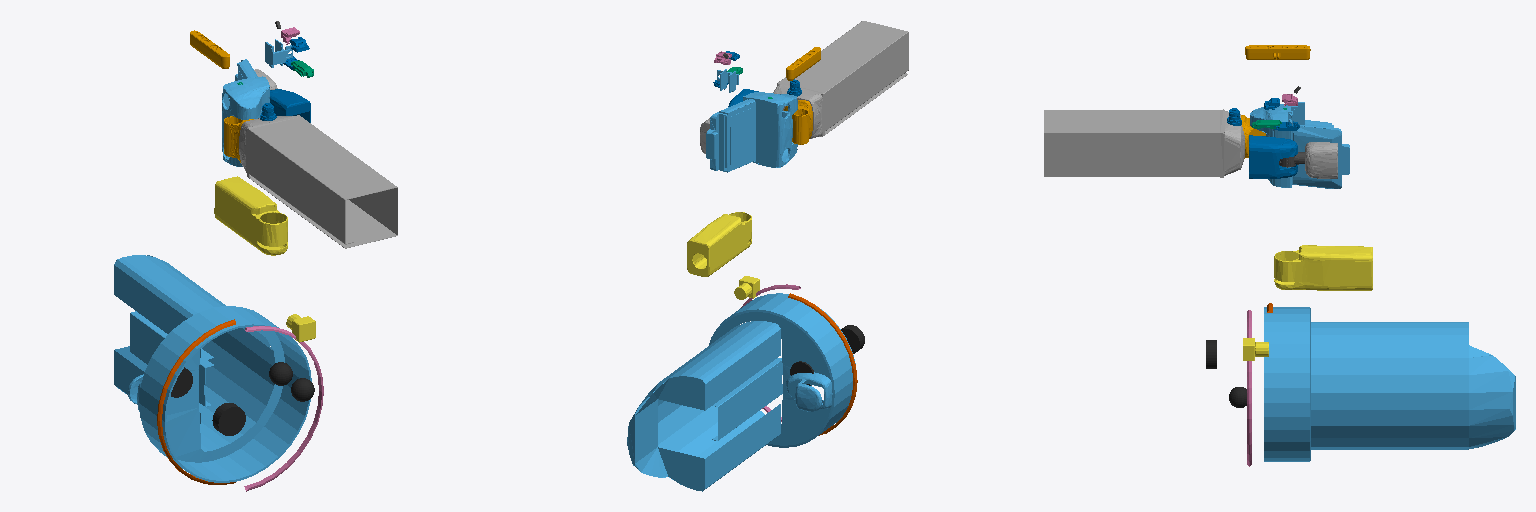
--- What the picture shows (computed from the rendered views, not written in the file) ---
Views: 3 orthographic renders of the robot side by side, from view 1: azimuth 30°, elevation 25°; view 2: azimuth 150°, elevation 25°; view 3: azimuth 270°, elevation 25°.
Model hsrb with 48 links and 47 joints (18 revolute, 9 continuous, 2 prismatic, 18 fixed), rooted at base_footprint, posed all joints at 0.
Visible links, largest first — view 1: base_link, torso_lift_link, arm_flex_link, head_tilt_link, base_b_bumper_link, base_f_bumper_link, arm_roll_link, base_r_drive_wheel_link, head_rgbd_sensor_link, head_pan_link, base_range_sensor_link; view 2: base_link, torso_lift_link, head_tilt_link, arm_flex_link, head_pan_link, base_f_bumper_link, head_rgbd_sensor_link; view 3: base_link, torso_lift_link, arm_flex_link, head_tilt_link, arm_roll_link, wrist_roll_link, head_rgbd_sensor_link, base_b_bumper_link.
Link boxes in pixels (box(x1,y1,x2,y2)): base_link: box(114, 255, 311, 482); torso_lift_link: box(239, 115, 397, 248); arm_flex_link: box(214, 176, 287, 255); head_tilt_link: box(222, 59, 269, 166); base_b_bumper_link: box(244, 326, 323, 491); base_f_bumper_link: box(157, 319, 235, 484); arm_roll_link: box(270, 89, 310, 122); base_r_drive_wheel_link: box(212, 403, 245, 435); head_rgbd_sensor_link: box(190, 30, 229, 68); head_pan_link: box(224, 116, 253, 162); base_range_sensor_link: box(286, 314, 315, 342); base_link: box(627, 293, 855, 491); torso_lift_link: box(773, 21, 908, 138); head_tilt_link: box(706, 92, 797, 172); arm_flex_link: box(687, 212, 751, 276); head_pan_link: box(784, 100, 812, 144); base_f_bumper_link: box(788, 293, 857, 435); head_rgbd_sensor_link: box(786, 47, 820, 80); base_link: box(1264, 307, 1515, 461); torso_lift_link: box(1044, 109, 1244, 177); arm_flex_link: box(1274, 245, 1372, 290); head_tilt_link: box(1250, 104, 1349, 188); arm_roll_link: box(1249, 135, 1297, 178); wrist_roll_link: box(1305, 142, 1337, 178); head_rgbd_sensor_link: box(1245, 45, 1310, 59); base_b_bumper_link: box(1247, 310, 1251, 466).
Size in the robot's own frame: 0.452 by 1.3 by 1.23 metres.
Meshes: 18 distinct files referenced, 19 mesh visuals loaded (17 OBJ); not drawn: 1 (reference not matched to a file when rendering).

URDF robot description (hsrb):
<?xml version="1.0" ?>
<!-- =================================================================================== -->
<!-- |    This document was autogenerated by xacro from [local-path]/tmp_ws/src/hsrb_description/robots/hsrb4s.urdf.xacro | -->
<!-- |    EDITING THIS FILE BY HAND IS NOT RECOMMENDED                                 | -->
<!-- =================================================================================== -->
<!--
Copyright (c) 2014, Toyota Motor Corporation
All rights reserved.

Redistribution and use in source and binary forms, with or without
modification, are permitted provided that the following conditions are met:

 * Redistributions of source code must retain the above copyright notice,
   this list of conditions and the following disclaimer.
 * Redistributions in binary form must reproduce the above copyright
   notice, this list of conditions and the following disclaimer in the
   documentation and/or other materials provided with the distribution.
 * Neither the name of Toyota Motor Corporation nor the names of its
   contributors may be used to endorse or promote products derived from
   this software without specific prior written permission.

THIS SOFTWARE IS PROVIDED BY THE COPYRIGHT HOLDERS AND CONTRIBUTORS "AS IS"
AND ANY EXPRESS OR IMPLIED WARRANTIES, INCLUDING, BUT NOT LIMITED TO, THE
IMPLIED WARRANTIES OF MERCHANTABILITY AND FITNESS FOR A PARTICULAR PURPOSE
ARE DISCLAIMED. IN NO EVENT SHALL THE COPYRIGHT OWNER OR CONTRIBUTORS BE
LIABLE FOR ANY DIRECT, INDIRECT, INCIDENTAL, SPECIAL, EXEMPLARY, OR
CONSEQUENTIAL DAMAGES (INCLUDING, BUT NOT LIMITED TO, PROCUREMENT OF
SUBSTITUTE GOODS OR SERVICES; LOSS OF USE, DATA, OR PROFITS; OR BUSINESS
INTERRUPTION) HOWEVER CAUSED AND ON ANY THEORY OF LIABILITY, WHETHER IN
CONTRACT, STRICT LIABILITY, OR TORT (INCLUDING NEGLIGENCE OR OTHERWISE)
ARISING IN ANY WAY OUT OF THE USE OF THIS SOFTWARE, EVEN IF ADVISED OF THE
POSSIBILITY OF SUCH DAMAGE.
-->
<robot name="hsrb" xmlns:controller="http://playerstage.sourceforge.net/gazebo/xmlschema/#controller" xmlns:interface="http://playerstage.sourceforge.net/gazebo/xmlschema/#interface" xmlns:sensor="http://playerstage.sourceforge.net/gazebo/xmlschema/#sensor" xmlns:xacro="http://ros.org/wiki/xacro">
  <material name="body_main">
    <color rgba="1.0 0.0 0.0 1.0"/>
  </material>
  <material name="body_sub">
    <color rgba="0.33 0.33 0.33 1.0"/>
  </material>
  <material name="wheel">
    <color rgba="0.2 0.2 0.2 1.0"/>
  </material>
  <material name="black">
    <color rgba="0.1 0.1 0.1 1.0"/>
  </material>
  <material name="tablet">
    <color rgba="0.1 0.1 0.2 1.0"/>
  </material>
  <link name="base_footprint">
        </link>
  <joint name="base_footprint_joint" type="fixed">
    <parent link="base_footprint"/>
    <child link="base_link"/>
  </joint>
  <link name="base_link">
    <inertial>
      <mass value="50.00"/>
      <!-- use dummy weight to stabilize gazebo move base (real value: 11.017971)-->
      <origin xyz="-0.025978 -0.005498 0.17633"/>
      <inertia ixx="0.3742" ixy="0.000434172172" ixz="0.03088" iyy="0.3436" iyz="0.01775" izz="0.1509"/>
    </inertial>
    <visual>
      <geometry>
        <mesh filename="hsrb_meshes/meshes/base_v2/combinedBase.obj"/>
      </geometry>
    </visual>
    <collision>
      <geometry>
        <mesh filename="hsrb_meshes/meshes/base_v2/base_collision.obj"/>
      </geometry>
    </collision>
  </link>
  <joint name="base_roll_joint" type="continuous">
    <origin rpy="0.0 0.0 0.0" xyz="0.0 0.0 0.0"/>
    <axis xyz="0.0 0.0 1.0"/>
    <limit effort="34.46" velocity="2.5"/>
    <parent link="base_link"/>
    <child link="base_roll_link"/>
    <dynamics damping="0.7"/>
  </joint>
  <link name="base_roll_link">
    <inertial>
      <origin xyz="-0.01948200 0.00219100 0.07101300"/>
      <mass value="10.239419"/>
      <inertia ixx="0.07671000" ixy="-0.01005000" ixz="0.00174900" iyy="0.09057000" iyz="0.00154900" izz="0.14500000"/>
    </inertial>
  </link>
  <joint name="base_r_drive_wheel_joint" type="continuous">
    <origin rpy="0.0 0.0 0.0" xyz="-0.11 -0.133 0.04"/>
    <axis xyz="0.0 1.0 0.0"/>
    <limit effort="11.067" velocity="20.8"/>
    <parent link="base_roll_link"/>
    <child link="base_r_drive_wheel_link"/>
    <dynamics damping="1.0"/>
  </joint>
  <link name="base_r_drive_wheel_link">
    <visual>
      <origin rpy="1.57079632679 0.0 0.0" xyz="0.0 0.0 0.0"/>
      <geometry>
        <cylinder length="0.03" radius="0.04"/>
      </geometry>
      <material name="wheel"/>
    </visual>
    <collision>
      <origin rpy="1.57079632679 0.0 0.0" xyz="0.0 0.0 0.0"/>
      <geometry>
        <cylinder length="0.03" radius="0.04"/>
      </geometry>
    </collision>
    <inertial>
      <mass value="0.2"/>
      <origin xyz="0 0 0"/>
      <inertia ixx="0.015" ixy="0" ixz="0" iyy="0.015" iyz="0" izz="0.015"/>
    </inertial>
  </link>
  <joint name="base_l_drive_wheel_joint" type="continuous">
    <origin rpy="0.0 0.0 0.0" xyz="-0.11 0.133 0.04"/>
    <axis xyz="0.0 1.0 0.0"/>
    <limit effort="11.067" velocity="20.8"/>
    <parent link="base_roll_link"/>
    <child link="base_l_drive_wheel_link"/>
    <dynamics damping="1.0"/>
  </joint>
  <link name="base_l_drive_wheel_link">
    <visual>
      <origin rpy="1.57079632679 0.0 0.0" xyz="0.0 0.0 0.0"/>
      <geometry>
        <cylinder length="0.03" radius="0.04"/>
      </geometry>
      <material name="wheel"/>
    </visual>
    <collision>
      <origin rpy="1.57079632679 0.0 0.0" xyz="0.0 0.0 0.0"/>
      <geometry>
        <cylinder length="0.03" radius="0.04"/>
      </geometry>
    </collision>
    <inertial>
      <mass value="0.2"/>
      <origin xyz="0 0 0"/>
      <inertia ixx="0.015" ixy="0" ixz="0" iyy="0.015" iyz="0" izz="0.015"/>
    </inertial>
  </link>
  <joint name="base_r_passive_wheel_x_frame_joint" type="continuous">
    <origin rpy="0.0 0.0 0.0" xyz="0.1495                 -0.055                 0.03"/>
    <axis xyz="1.0 0.0 0.0"/>
    <limit effort="1.0" velocity="3.0"/>
    <parent link="base_roll_link"/>
    <child link="base_r_passive_wheel_x_frame"/>
    <dynamics damping="1.0"/>
  </joint>
  <link name="base_r_passive_wheel_x_frame">
    <inertial>
      <mass value="0.2"/>
      <origin xyz="0 0 0"/>
      <inertia ixx="0.015" ixy="0" ixz="0" iyy="0.015" iyz="0" izz="0.015"/>
    </inertial>
  </link>
  <joint name="base_r_passive_wheel_y_frame_joint" type="continuous">
    <axis xyz="0.0 1.0 0.0"/>
    <limit effort="8.85" velocity="10.0"/>
    <parent link="base_r_passive_wheel_x_frame"/>
    <child link="base_r_passive_wheel_y_frame"/>
  </joint>
  <link name="base_r_passive_wheel_y_frame">
    <inertial>
      <mass value="0.2"/>
      <origin xyz="0 0 0"/>
      <inertia ixx="0.015" ixy="0" ixz="0" iyy="0.015" iyz="0" izz="0.015"/>
    </inertial>
  </link>
  <joint name="base_r_passive_wheel_z_joint" type="continuous">
    <axis xyz="0.0 0.0 1.0"/>
    <limit effort="8.85" velocity="10.0"/>
    <parent link="base_r_passive_wheel_y_frame"/>
    <child link="base_r_passive_wheel_z_link"/>
  </joint>
  <link name="base_r_passive_wheel_z_link">
    <visual>
      <geometry>
        <sphere radius="0.03"/>
      </geometry>
      <material name="wheel"/>
    </visual>
    <collision>
      <geometry>
        <sphere radius="0.03"/>
      </geometry>
    </collision>
    <inertial>
      <mass value="0.2"/>
      <origin xyz="0 0 0"/>
      <inertia ixx="0.015" ixy="0" ixz="0" iyy="0.015" iyz="0" izz="0.015"/>
    </inertial>
  </link>
  <joint name="base_l_passive_wheel_x_frame_joint" type="continuous">
    <origin rpy="0.0 0.0 0.0" xyz="0.1495                 0.055                 0.03"/>
    <axis xyz="1.0 0.0 0.0"/>
    <limit effort="1.0" velocity="3.0"/>
    <parent link="base_roll_link"/>
    <child link="base_l_passive_wheel_x_frame"/>
    <dynamics damping="1.0"/>
  </joint>
  <link name="base_l_passive_wheel_x_frame">
    <inertial>
      <mass value="0.2"/>
      <origin xyz="0 0 0"/>
      <inertia ixx="0.015" ixy="0" ixz="0" iyy="0.015" iyz="0" izz="0.015"/>
    </inertial>
  </link>
  <joint name="base_l_passive_wheel_y_frame_joint" type="continuous">
    <axis xyz="0.0 1.0 0.0"/>
    <limit effort="8.85" velocity="10.0"/>
    <parent link="base_l_passive_wheel_x_frame"/>
    <child link="base_l_passive_wheel_y_frame"/>
  </joint>
  <link name="base_l_passive_wheel_y_frame">
    <inertial>
      <mass value="0.2"/>
      <origin xyz="0 0 0"/>
      <inertia ixx="0.015" ixy="0" ixz="0" iyy="0.015" iyz="0" izz="0.015"/>
    </inertial>
  </link>
  <joint name="base_l_passive_wheel_z_joint" type="continuous">
    <axis xyz="0.0 0.0 1.0"/>
    <limit effort="8.85" velocity="10.0"/>
    <parent link="base_l_passive_wheel_y_frame"/>
    <child link="base_l_passive_wheel_z_link"/>
  </joint>
  <link name="base_l_passive_wheel_z_link">
    <visual>
      <geometry>
        <sphere radius="0.03"/>
      </geometry>
      <material name="wheel"/>
    </visual>
    <collision>
      <geometry>
        <sphere radius="0.03"/>
      </geometry>
    </collision>
    <inertial>
      <mass value="0.2"/>
      <origin xyz="0 0 0"/>
      <inertia ixx="0.015" ixy="0" ixz="0" iyy="0.015" iyz="0" izz="0.015"/>
    </inertial>
  </link>
  <joint name="base_range_sensor_joint" type="fixed">
    <origin rpy="0.0 0.0 0.0" xyz="0.1675 0.0 0.1844"/>
    <parent link="base_link"/>
    <child link="base_range_sensor_link"/>
  </joint>
  <link name="base_range_sensor_link">
    <visual>
      <geometry>
        <mesh filename="hsrb_meshes/meshes/sensors/laser.obj"/>
      </geometry>
    </visual>
    <collision>
      <geometry>
        <mesh filename="hsrb_meshes/meshes/sensors/laser_collision.obj"/>
      </geometry>
    </collision>
    <inertial>
      <origin xyz="0 0 0"/>
      <mass value="0.01"/>
      <inertia ixx="0.001" ixy="0" ixz="0" iyy="0.001" iyz="0" izz="0.001"/>
    </inertial>
  </link>
  <joint name="base_imu_frame_joint" type="fixed">
    <origin rpy="0.0 0.0 0.0" xyz="0.0005 0.1296 0.181"/>
    <parent link="base_link"/>
    <child link="base_imu_frame"/>
  </joint>
  <link name="base_imu_frame">
    <inertial>
      <origin xyz="0 0 0"/>
      <mass value="0.01"/>
      <inertia ixx="0.001" ixy="0" ixz="0" iyy="0.001" iyz="0" izz="0.001"/>
    </inertial>
  </link>
  <joint name="base_f_bumper_joint" type="revolute">
    <origin rpy="0.0 0.0 0.0" xyz="0.0 0.0 0.0"/>
    <parent link="base_link"/>
    <child link="base_f_bumper_link"/>
    <limit effort="0" lower="0" upper="0" velocity="0"/>
  </joint>
  <link name="base_f_bumper_link">
    <inertial>
      <origin xyz="0.0 0.0 0.0"/>
      <mass value="0.06"/>
      <inertia ixx="0.001437" ixy="0.0" ixz="0.0" iyy="0.001437" iyz="0.0" izz="0.002875"/>
    </inertial>
    <visual>
      <geometry>
        <mesh filename="hsrb_meshes/meshes/base_v2/bumper.obj"/>
      </geometry>
    </visual>
    <collision>
      <geometry>
        <mesh filename="hsrb_meshes/meshes/base_v2/bumper_collision.obj"/>
      </geometry>
    </collision>
  </link>
  <joint name="base_b_bumper_joint" type="revolute">
    <origin rpy="0.0 0.0 3.14159265359" xyz="0.0 0.0013 0.0"/>
    <parent link="base_link"/>
    <child link="base_b_bumper_link"/>
    <limit effort="0" lower="0" upper="0" velocity="0"/>
  </joint>
  <link name="base_b_bumper_link">
    <inertial>
      <origin xyz="0.0 0.0 0.0"/>
      <mass value="0.06"/>
      <inertia ixx="0.001437" ixy="0.0" ixz="0.0" iyy="0.001437" iyz="0.0" izz="0.002875"/>
    </inertial>
    <visual>
      <geometry>
        <mesh filename="hsrb_meshes/meshes/base_v2/bumper.obj"/>
      </geometry>
    </visual>
    <collision>
      <geometry>
        <mesh filename="hsrb_meshes/meshes/base_v2/bumper_collision.obj"/>
      </geometry>
    </collision>
  </link>
  <joint name="torso_lift_joint" type="prismatic">
    <origin rpy="0.0 0.0 0.0" xyz="0.0 0.0 0.752"/>
    <!-- <origin xyz="0.0 0.0 0.752" rpy="0.0 0.0 0.0" /> -->
    <axis xyz="0.0 0.0 1.0"/>
    <limit effort="300.0" lower="0.0" upper="0.345" velocity="0.1"/>
    <parent link="base_link"/>
    <child link="torso_lift_link"/>
    <mimic joint="arm_lift_joint" multiplier="0.5"/>
    <dynamics damping="500.0"/>
  </joint>
  <link name="torso_lift_link">
    <inertial>
      <mass value="3.420779"/>
      <origin xyz="-0.051142 0.003454 -0.2905"/>
      <inertia ixx="0.1045" ixy="-0.000460884801" ixz="0.000101130383" iyy="0.105" iyz="0.002941" izz="0.01284"/>
    </inertial>
    <visual>
      <geometry>
        <mesh filename="hsrb_meshes/meshes/torso_v0/torso_light.obj"/>
      </geometry>
    </visual>
    <collision>
      <geometry>
        <mesh filename="hsrb_meshes/meshes/torso_v0/torso_collision.obj"/>
      </geometry>
    </collision>
  </link>
  <joint name="head_pan_joint" type="revolute">
    <origin rpy="0.0 0.0 0.0" xyz="0.0 0.0 0.0"/>
    <axis xyz="0.0 0.0 1.0"/>
    <limit effort="100.0" lower="-3.84" upper="1.75" velocity="1.0"/>
    <parent link="torso_lift_link"/>
    <child link="head_pan_link"/>
    <dynamics damping="1.0"/>
  </joint>
  <link name="head_pan_link">
    <inertial>
      <mass value="0.571903"/>
      <origin xyz="0.001724 -0.001969 -0.028886"/>
      <inertia ixx="0.0009711421" ixy="0.00006179487" ixz="-0.000113923121" iyy="0.00065335493" iyz="0.000069036305" izz="0.000765202576"/>
    </inertial>
    <visual>
      <geometry>
        <mesh filename="hsrb_meshes/meshes/head_v1/head_pan.obj"/>
      </geometry>
    </visual>
    <collision>
      <geometry>
        <mesh filename="hsrb_meshes/meshes/head_v1/head_pan_collision.obj"/>
      </geometry>
    </collision>
  </link>
  <joint name="head_tilt_joint" type="revolute">
    <origin rpy="0.0 0.0 0.0" xyz="0.02 0.0 0.0"/>
    <axis xyz="0.0 -1.0 0.0"/>
    <limit effort="100.0" lower="-1.57" upper="0.52" velocity="1.0"/>
    <parent link="head_pan_link"/>
    <child link="head_tilt_link"/>
    <dynamics damping="10.0"/>
  </joint>
  <link name="head_tilt_link">
    <inertial>
      <mass value="2.123802"/>
      <origin xyz="-0.055376 -0.002436 0.117733"/>
      <inertia ixx="0.01941" ixy="-0.000138091054" ixz="0.005035" iyy="0.01498" iyz="0.000087492537" izz="0.01167"/>
    </inertial>
    <visual>
      <geometry>
        <mesh filename="hsrb_meshes/meshes/head_v1/combinedHead.obj"/>
      </geometry>
    </visual>
    <collision>
      <geometry>
        <mesh filename="hsrb_meshes/meshes/head_v1/combinedCollision.obj"/>
      </geometry>
    </collision>
  </link>
  <joint name="head_l_stereo_camera_joint" type="fixed">
    <origin rpy="-1.57079632679 0.0 -1.57079632679" xyz="0.02 0.07 0.061"/>
    <parent link="head_tilt_link"/>
    <child link="head_l_stereo_camera_link"/>
  </joint>
  <link name="head_l_stereo_camera_link">
    <visual>
      <origin rpy="0.0 0.0 0.0" xyz="0 0 0"/>
      <geometry>
        <mesh filename="hsrb_meshes/meshes/sensors/head_camera.obj"/>
      </geometry>
    </visual>
    <inertial>
      <origin xyz="0 0 0"/>
      <mass value="0.01"/>
      <inertia ixx="0.001" ixy="0" ixz="0" iyy="0.001" iyz="0" izz="0.001"/>
    </inertial>
  </link>
  <joint name="head_l_stereo_camera_gazebo_frame_joint" type="fixed">
    <origin rpy="1.57079632679 -1.57079632679 0.0" xyz="0 0 0"/>
    <parent link="head_l_stereo_camera_link"/>
    <child link="head_l_stereo_camera_gazebo_frame"/>
  </joint>
  <link name="head_l_stereo_camera_gazebo_frame">
    <inertial>
      <origin xyz="0 0 0"/>
      <mass value="0.01"/>
      <inertia ixx="0.001" ixy="0" ixz="0" iyy="0.001" iyz="0" izz="0.001"/>
    </inertial>
  </link>
  <joint name="head_r_stereo_camera_joint" type="fixed">
    <origin rpy="-1.57079632679 0.0 -1.57079632679" xyz="0.02 -0.07 0.061"/>
    <parent link="head_tilt_link"/>
    <child link="head_r_stereo_camera_link"/>
  </joint>
  <link name="head_r_stereo_camera_link">
    <visual>
      <origin rpy="0.0 0.0 0.0" xyz="0 0 0"/>
      <geometry>
        <mesh filename="hsrb_meshes/meshes/sensors/head_camera.obj"/>
      </geometry>
    </visual>
    <inertial>
      <origin xyz="0 0 0"/>
      <mass value="0.01"/>
      <inertia ixx="0.001" ixy="0" ixz="0" iyy="0.001" iyz="0" izz="0.001"/>
    </inertial>
  </link>
  <joint name="head_r_stereo_camera_gazebo_frame_joint" type="fixed">
    <origin rpy="1.57079632679 -1.57079632679 0.0" xyz="0 0 0"/>
    <parent link="head_r_stereo_camera_link"/>
    <child link="head_r_stereo_camera_gazebo_frame"/>
  </joint>
  <link name="head_r_stereo_camera_gazebo_frame">
    <inertial>
      <origin xyz="0 0 0"/>
      <mass value="0.01"/>
      <inertia ixx="0.001" ixy="0" ixz="0" iyy="0.001" iyz="0" izz="0.001"/>
    </inertial>
  </link>
  <joint name="head_center_camera_frame_joint" type="fixed">
    <origin rpy="-1.57079632679 0.0 -1.57079632679" xyz="0.0195 0.0 0.061"/>
    <parent link="head_tilt_link"/>
    <child link="head_center_camera_frame"/>
  </joint>
  <link name="head_center_camera_frame">
    <inertial>
      <origin xyz="0 0 0"/>
      <mass value="0.01"/>
      <inertia ixx="0.001" ixy="0" ixz="0" iyy="0.001" iyz="0" izz="0.001"/>
    </inertial>
  </link>
  <joint name="head_center_camera_gazebo_frame_joint" type="fixed">
    <origin rpy="1.57079632679 -1.57079632679 0.0" xyz="0 0 0"/>
    <parent link="head_center_camera_frame"/>
    <child link="head_center_camera_gazebo_frame"/>
  </joint>
  <link name="head_center_camera_gazebo_frame">
    <inertial>
      <origin xyz="0 0 0"/>
      <mass value="0.01"/>
      <inertia ixx="0.001" ixy="0" ixz="0" iyy="0.001" iyz="0" izz="0.001"/>
    </inertial>
  </link>
  <joint name="head_rgbd_sensor_joint" type="fixed">
    <origin rpy="-1.57079632679 0.0 -1.57079632679" xyz="-0.079796 0.022 0.215172"/>
    <parent link="head_tilt_link"/>
    <child link="head_rgbd_sensor_link"/>
  </joint>
  <link name="head_rgbd_sensor_link">
    <visual>
      <origin rpy="0.0 0.0 0.0" xyz="0 0 0"/>
      <geometry>
        <mesh filename="hsrb_meshes/meshes/sensors/xtion_pro_live.obj"/>
      </geometry>
    </visual>
    <collision>
      <origin rpy="0.0 0.0 0.0" xyz="0 0 0"/>
      <geometry>
        <mesh filename="hsrb_meshes/meshes/sensors/xtion_collision.obj"/>
      </geometry>
    </collision>
    <inertial>
      <origin xyz="0 0 0"/>
      <mass value="0.01"/>
      <inertia ixx="0.001" ixy="0" ixz="0" iyy="0.001" iyz="0" izz="0.001"/>
    </inertial>
  </link>
  <joint name="head_rgbd_sensor_gazebo_frame_joint" type="fixed">
    <origin rpy="1.57079632679 -1.57079632679 0.0" xyz="0 0 0"/>
    <parent link="head_rgbd_sensor_link"/>
    <child link="head_rgbd_sensor_gazebo_frame"/>
  </joint>
  <link name="head_rgbd_sensor_gazebo_frame">
    <inertial>
      <origin xyz="0 0 0"/>
      <mass value="0.01"/>
      <inertia ixx="0.001" ixy="0" ixz="0" iyy="0.001" iyz="0" izz="0.001"/>
    </inertial>
  </link>
  <joint name="arm_lift_joint" type="prismatic">
    <origin rpy="0.0 0.0 0.0" xyz="0.0 0.0 -0.340"/>
    <axis xyz="0.0 0.0 1.0"/>
    <limit effort="300.0" lower="0.0" upper="0.24" velocity="0.2"/>
    <parent link="torso_lift_link"/>
    <child link="arm_lift_link"/>
    <dynamics damping="1.0"/>
  </joint>
  <link name="arm_lift_link">
    <inertial>
      <mass value="1.275819"/>
      <origin xyz="0.051549 0.042438 -0.064145"/>
      <inertia ixx="0.004633" ixy="0.000475272668" ixz="-0.002403" iyy="0.008065" iyz="-0.000100268629" izz="0.007672"/>
    </inertial>
    <visual>
      <geometry>
        <mesh filename="hsrb_meshes/meshes/arm_v0/shoulder.obj" scale="1.0 1.0 -1.0"/>
      </geometry>
    </visual>
    <collision>
      <geometry>
        <mesh filename="hsrb_meshes/meshes/arm_v0/shoulder_collision.obj" scale="1.0 1.0 -1.0"/>
      </geometry>
    </collision>
  </link>
  <joint name="arm_flex_joint" type="revolute">
    <origin rpy="0.0 0.0 0.0" xyz="0.141 0.078 0.0"/>
    <axis xyz="0.0 -1.0 0.0"/>
    <limit effort="100.0" lower="-2.62" upper="0.0" velocity="1.2"/>
    <parent link="arm_lift_link"/>
    <child link="arm_flex_link"/>
    <dynamics damping="1.0"/>
  </joint>
  <link name="arm_flex_link">
    <inertial>
      <mass value="1.339295"/>
      <origin xyz="0.000632 0.006404 0.118529"/>
      <inertia ixx="7.528" ixy="-0.000020284207" ixz="-0.000022947194" iyy="0.007102" iyz="-0.000091796075" izz="0.001552"/>
    </inertial>
    <visual>
      <geometry>
        <mesh filename="hsrb_meshes/meshes/arm_v0/arm_flex_light.obj" scale="1.0 1.0 -1.0"/>
      </geometry>
    </visual>
    <collision>
      <geometry>
        <mesh filename="hsrb_meshes/meshes/arm_v0/arm_flex_collision.obj" scale="1.0 1.0 -1.0"/>
      </geometry>
    </collision>
  </link>
  <joint name="arm_roll_joint" type="revolute">
    <origin rpy="0.0 0.0 0.0" xyz="0.005 0.0 0.345"/>
    <axis xyz="0.0 0.0 1.0"/>
    <limit effort="100.0" lower="-2.09" upper="3.84" velocity="2.0"/>
    <parent link="arm_flex_link"/>
    <child link="arm_roll_link"/>
    <dynamics damping="0.1"/>
  </joint>
  <link name="arm_roll_link">
    <inertial>
      <mass value="0.247936"/>
      <origin xyz="-0.006927 0.002039 -0.064837"/>
      <inertia ixx="0.004267" ixy="-0.000018322199" ixz="0.000017984455" iyy="0.000780923828" iyz="-0.00001392334" izz="0.00412"/>
    </inertial>
    <visual>
      <geometry>
        <mesh filename="hsrb_meshes/meshes/arm_v0/arm_roll_light.obj" scale="1.0 1.0 -1.0"/>
      </geometry>
    </visual>
    <collision>
      <geometry>
        <mesh filename="hsrb_meshes/meshes/arm_v0/arm_roll_collision.obj" scale="1.0 1.0 -1.0"/>
      </geometry>
    </collision>
  </link>
  <joint name="wrist_flex_joint" type="revolute">
    <origin rpy="0.0 0.0 0.0" xyz="0.0 0.0 0.0"/>
    <axis xyz="0.0 -1.0 0.0"/>
    <limit effort="100.0" lower="-1.92" upper="1.22" velocity="1.5"/>
    <parent link="arm_roll_link"/>
    <child link="wrist_flex_link"/>
    <dynamics damping="1.0"/>
  </joint>
  <link name="wrist_flex_link">
    <inertial>
      <mass value="0.681225"/>
      <origin xyz="0.000131 -0.003929 0.00217"/>
      <inertia ixx="0.000074353558" ixy="0.000000494515" ixz="0.000000022937" iyy="0.000038432887" iyz="-0.00000255576" izz="0.000064680918"/>
    </inertial>
    <visual>
      <geometry>
        <mesh filename="hsrb_meshes/meshes/wrist_v0/combinedWrist.obj" scale="1.0 1.0 -1.0"/>
      </geometry>
      <material name="body_sub"/>
    </visual>
    <collision>
      <origin rpy="0.0 0.0 0.0" xyz="0.0 0.0 0.03"/>
      <geometry>
        <cylinder length="0.04" radius="0.017"/>
      </geometry>
    </collision>
  </link>
  <joint name="wrist_roll_joint" type="revolute">
    <origin rpy="0.0 0.0 0.0" xyz="0.0 0.0 0.0"/>
    <axis xyz="0.0 0.0 1.0"/>
    <limit effort="100.0" lower="-1.92" upper="3.67" velocity="1.5"/>
    <parent link="wrist_flex_link"/>
    <child link="wrist_ft_sensor_mount_link"/>
    <dynamics damping="1.0"/>
  </joint>
  <!-- each link must have mass in URDF so we apply very small mass (10 gram) for this coupling link -->
  <link name="wrist_ft_sensor_mount_link">
    <inertial>
      <mass value="0.01"/>
      <inertia ixx="0.001" ixy="0.0" ixz="0.0" iyy="0.001" iyz="0.0" izz="0.001"/>
    </inertial>
  </link>
  <joint name="wrist_ft_sensor_frame_inverse_joint" type="fixed">
    <origin rpy="-3.14159265359 0.0 0.0" xyz="0.0 0.0 0.0735"/>
    <parent link="wrist_ft_sensor_frame"/>
    <child link="wrist_roll_link"/>
  </joint>
  <link name="wrist_roll_link">
    <inertial>
      <mass value="0.761692"/>
      <origin xyz="-0.001416 -0.001547 0.081689"/>
      <inertia ixx="0.000805633819" ixy="-0.000014431758" ixz="0.000028204659" iyy="0.000768077165" iyz="0.000022460226" izz="0.000453406611"/>
    </inertial>
    <visual>
      <geometry>
        <mesh filename="hsrb_meshes/meshes/wrist_v0/wrist_roll.obj" scale="1.0 1.0 -1.0"/>
      </geometry>
    </visual>
    <collision>
      <geometry>
        <mesh filename="hsrb_meshes/meshes/wrist_v0/wrist_roll_collision.obj" scale="1.0 1.0 -1.0"/>
      </geometry>
    </collision>
  </link>
  <joint name="wrist_ft_sensor_frame_joint" type="revolute">
    <origin rpy="3.14159265359 0.0 0.0" xyz="0.0 0.0 0.0735"/>
    <parent link="wrist_ft_sensor_mount_link"/>
    <child link="wrist_ft_sensor_frame"/>
    <limit effort="100.0" lower="0" upper="0" velocity="1.5"/>
  </joint>
  <link name="wrist_ft_sensor_frame">
    <inertial>
      <origin xyz="0 0 0"/>
      <mass value="0.01"/>
      <inertia ixx="0.001" ixy="0" ixz="0" iyy="0.001" iyz="0" izz="0.001"/>
    </inertial>
  </link>
  <joint name="hand_palm_joint" type="fixed">
    <origin rpy="0.0 0.0 3.14159265359" xyz="0.012 0.0 0.1405"/>
    <parent link="wrist_roll_link"/>
    <child link="hand_palm_link"/>
  </joint>
  <link name="hand_palm_link">
    <inertial>
      <mass value="0.15"/>
      <inertia ixx="0.015" ixy="0.0" ixz="0.0" iyy="0.015" iyz="0.0" izz="0.015"/>
    </inertial>
    <visual>
      <geometry>
        <mesh filename="hsrb_meshes/meshes/hand_v0/palm_light.obj" scale="1.0 1.0 -1.0"/>
      </geometry>
    </visual>
    <collision>
      <geometry>
        <mesh filename="hsrb_meshes/meshes/hand_v0/palm_collision.obj" scale="1.0 1.0 -1.0"/>
      </geometry>
    </collision>
  </link>
  <joint name="hand_motor_joint" type="revolute">
    <axis xyz="1.0 0.0 0.0"/>
    <limit effort="100.0" lower="-0.798" upper="1.24" velocity="1.0"/>
    <parent link="hand_palm_link"/>
    <child link="hand_motor_dummy_link"/>
    <dynamics damping="0.0001"/>
  </joint>
  <link name="hand_motor_dummy_link">
    <inertial>
      <mass value="0.01"/>
      <inertia ixx="0.0015" ixy="0.0" ixz="0.0" iyy="0.0015" iyz="0.0" izz="0.0015"/>
    </inertial>
  </link>
  <joint name="hand_l_proximal_joint" type="revolute">
    <origin rpy="0.0 0.0 0.0" xyz="-0.01675 -0.0245 -0.0175"/>
    <axis xyz="1.0 0.0 0.0"/>
    <limit effort="100.0" lower="-0.798" upper="1.24" velocity="1.0"/>
    <parent link="hand_palm_link"/>
    <child link="hand_l_proximal_link"/>
    <mimic joint="hand_motor_joint"/>
    <dynamics damping="0.0001"/>
  </joint>
  <link name="hand_l_proximal_link">
    <inertial>
      <mass value="0.01"/>
      <inertia ixx="0.0015" ixy="0.0" ixz="0.0" iyy="0.0015" iyz="0.0" izz="0.0015"/>
    </inertial>
  </link>
  <joint name="hand_l_spring_proximal_joint" type="revolute">
    <axis xyz="1.0 0.0 0.0"/>
    <limit effort="10.0" lower="0.0" upper="0.698" velocity="1.0"/>
    <parent link="hand_l_proximal_link"/>
    <child link="hand_l_spring_proximal_link"/>
    <dynamics damping="0.0001"/>
  </joint>
  <link name="hand_l_spring_proximal_link">
    <inertial>
      <mass value="0.043589"/>
      <origin xyz="0.021418 0.00248 0.022688"/>
      <inertia ixx="0.000026033886" ixy="-0.000000144078" ixz="-0.00000198241" iyy="0.000028824811" iyz="-0.000001268421" izz="0.000005135919"/>
    </inertial>
    <visual>
      <geometry>
        <mesh filename="hsrb_meshes/meshes/hand_v0/l_proximal.obj" scale="1.0 1.0 -1.0"/>
      </geometry>
    </visual>
    <collision>
      <geometry>
        <mesh filename="hsrb_meshes/meshes/hand_v0/l_proximal_collision.obj" scale="1.0 1.0 -1.0"/>
      </geometry>
    </collision>
  </link>
  <joint name="hand_l_mimic_distal_joint" type="revolute">
    <origin xyz="0.0 0.0 0.07"/>
    <axis xyz="1.0 0.0 0.0"/>
    <limit effort="100.0" lower="-0.698" upper="-0.0" velocity="1.0"/>
    <parent link="hand_l_spring_proximal_link"/>
    <child link="hand_l_mimic_distal_link"/>
    <mimic joint="hand_l_spring_proximal_joint" multiplier="-1.0"/>
    <dynamics damping="0.0001"/>
  </joint>
  <link name="hand_l_mimic_distal_link">
    <inertial>
      <mass value="0.01"/>
      <inertia ixx="0.0015" ixy="0.0" ixz="0.0" iyy="0.0015" iyz="0.0" izz="0.0015"/>
    </inertial>
  </link>
  <joint name="hand_l_distal_joint" type="revolute">
    <axis xyz="1.0 0.0 0.0"/>
    <limit effort="100.0" lower="-1.24" upper="0.798" velocity="1.0"/>
    <parent link="hand_l_mimic_distal_link"/>
    <child link="hand_l_distal_link"/>
    <mimic joint="hand_motor_joint" multiplier="-1.0" offset="-0.087"/>
    <dynamics damping="0.0001"/>
  </joint>
  <link name="hand_l_distal_link">
    <inertial>
      <mass value="0.027731"/>
      <origin xyz="0.011116 0.005679 0.017532"/>
      <inertia ixx="0.000004451952" ixy="-0.000000617574" ixz="0.000000503765" iyy="0.000000503765" iyz="-0.000000435048" izz="0.000004456764"/>
    </inertial>
    <visual>
      <geometry>
        <mesh filename="hsrb_meshes/meshes/hand_v0/l_distal.obj" scale="1.0 1.0 -1.0"/>
      </geometry>
    </visual>
    <collision>
      <geometry>
        <mesh filename="hsrb_meshes/meshes/hand_v0/l_distal_collision.obj" scale="1.0 1.0 -1.0"/>
      </geometry>
    </collision>
  </link>
  <joint name="hand_l_finger_tip_frame_joint" type="fixed">
    <origin rpy="-1.57079632679 0.0 0.0" xyz="0.01675 0.01865 0.04289"/>
    <parent link="hand_l_distal_link"/>
    <child link="hand_l_finger_tip_frame"/>
    <dynamics damping="0.0001"/>
  </joint>
  <link name="hand_l_finger_tip_frame">
    <inertial>
      <mass value="0.01"/>
      <inertia ixx="0.0015" ixy="0.0" ixz="0.0" iyy="0.0015" iyz="0.0" izz="0.0015"/>
    </inertial>
  </link>
  <joint name="hand_l_finger_vacuum_frame_joint" type="fixed">
    <origin rpy="0.785398163397 0.0 0.0" xyz="0.00475 -0.011539 0.03322"/>
    <parent link="hand_l_distal_link"/>
    <child link="hand_l_finger_vacuum_frame"/>
  </joint>
  <link name="hand_l_finger_vacuum_frame">
    <inertial>
      <mass value="0.01"/>
      <inertia ixx="0.0015" ixy="0.0" ixz="0.0" iyy="0.0015" iyz="0.0" izz="0.0015"/>
    </inertial>
    <visual>
      <origin rpy="0.0 0.0 0.0" xyz="0.0 0.0 -0.01"/>
      <geometry>
        <box size="0.008 0.008 0.02"/>
      </geometry>
      <material name="body_sub"/>
    </visual>
  </link>
  <joint name="hand_r_proximal_joint" type="revolute">
    <origin rpy="0.0 0.0 0.0" xyz="-0.01675 0.0245 -0.0175"/>
    <axis xyz="-1.0 0.0 0.0"/>
    <limit effort="100.0" lower="-0.798" upper="1.24" velocity="1.0"/>
    <parent link="hand_palm_link"/>
    <child link="hand_r_proximal_link"/>
    <mimic joint="hand_motor_joint"/>
    <dynamics damping="0.0001"/>
  </joint>
  <link name="hand_r_proximal_link">
    <inertial>
      <mass value="0.01"/>
      <inertia ixx="0.0015" ixy="0.0" ixz="0.0" iyy="0.0015" iyz="0.0" izz="0.0015"/>
    </inertial>
  </link>
  <joint name="hand_r_spring_proximal_joint" type="revolute">
    <axis xyz="-1.0 0.0 0.0"/>
    <limit effort="10.0" lower="0.0" upper="0.698" velocity="1.0"/>
    <parent link="hand_r_proximal_link"/>
    <child link="hand_r_spring_proximal_link"/>
    <dynamics damping="0.0001"/>
  </joint>
  <link name="hand_r_spring_proximal_link">
    <inertial>
      <mass value="0.043956"/>
      <origin xyz="0.013203 0.002096 0.023311"/>
      <inertia ixx="0.00002623664" ixy="0.00000001631" ixz="0.000001281845" iyy="0.000028838232" iyz="-0.000001621709" izz="0.000004957151"/>
    </inertial>
    <visual>
      <geometry>
        <mesh filename="hsrb_meshes/meshes/hand_v0/r_proximal.obj" scale="1.0 1.0 -1.0"/>
      </geometry>
    </visual>
    <collision>
      <geometry>
        <mesh filename="hsrb_meshes/meshes/hand_v0/r_proximal_collision.obj" scale="1.0 1.0 -1.0"/>
      </geometry>
    </collision>
  </link>
  <joint name="hand_r_mimic_distal_joint" type="revolute">
    <origin xyz="0.0 0.0 0.07"/>
    <axis xyz="-1.0 0.0 0.0"/>
    <limit effort="100.0" lower="-0.698" upper="-0.0" velocity="1.0"/>
    <parent link="hand_r_spring_proximal_link"/>
    <child link="hand_r_mimic_distal_link"/>
    <mimic joint="hand_r_spring_proximal_joint" multiplier="-1.0"/>
    <dynamics damping="0.0001"/>
  </joint>
  <link name="hand_r_mimic_distal_link">
    <inertial>
      <mass value="0.01"/>
      <inertia ixx="0.0015" ixy="0.0" ixz="0.0" iyy="0.0015" iyz="0.0" izz="0.0015"/>
    </inertial>
  </link>
  <joint name="hand_r_distal_joint" type="revolute">
    <axis xyz="-1.0 0.0 0.0"/>
    <limit effort="100.0" lower="-1.24" upper="0.798" velocity="1.0"/>
    <parent link="hand_r_mimic_distal_link"/>
    <child link="hand_r_distal_link"/>
    <mimic joint="hand_motor_joint" multiplier="-1.0" offset="-0.087"/>
    <dynamics damping="0.0001"/>
  </joint>
  <link name="hand_r_distal_link">
    <inertial>
      <mass value="0.020927"/>
      <origin xyz="0.014256 -0.008321 0.015591"/>
      <inertia ixx="0.00000307518" ixy="-0.00000004954" ixz="0.000000009481" iyy="0.000004074079" iyz="0.000000843648" izz="0.000002807795"/>
    </inertial>
    <visual>
      <geometry>
        <mesh filename="hsrb_meshes/meshes/hand_v0/r_distal.obj" scale="1.0 1.0 -1.0"/>
      </geometry>
    </visual>
    <collision>
      <geometry>
        <mesh filename="hsrb_meshes/meshes/hand_v0/r_distal_collision.obj" scale="1.0 1.0 -1.0"/>
      </geometry>
    </collision>
  </link>
  <joint name="hand_r_finger_tip_frame_joint" type="fixed">
    <origin rpy="1.57079632679 0.0 0.0" xyz="0.01675 -0.01865 0.04289"/>
    <parent link="hand_r_distal_link"/>
    <child link="hand_r_finger_tip_frame"/>
  </joint>
  <link name="hand_r_finger_tip_frame">
    <inertial>
      <mass value="0.01"/>
      <inertia ixx="0.0015" ixy="0.0" ixz="0.0" iyy="0.0015" iyz="0.0" izz="0.0015"/>
    </inertial>
  </link>
  <joint name="hand_camera_frame_joint" type="fixed">
    <origin rpy="0.0 0.0 0.0" xyz="0.039 0.0 -0.0045"/>
    <parent link="hand_palm_link"/>
    <child link="hand_camera_frame"/>
  </joint>
  <link name="hand_camera_frame">
    <inertial>
      <origin xyz="0 0 0"/>
      <mass value="0.01"/>
      <inertia ixx="0.001" ixy="0" ixz="0" iyy="0.001" iyz="0" izz="0.001"/>
    </inertial>
  </link>
  <joint name="hand_camera_gazebo_frame_joint" type="fixed">
    <origin rpy="1.57079632679 -1.57079632679 0" xyz="0 0 0"/>
    <parent link="hand_camera_frame"/>
    <child link="hand_camera_gazebo_frame"/>
  </joint>
  <link name="hand_camera_gazebo_frame">
    <inertial>
      <origin xyz="0 0 0"/>
      <mass value="0.01"/>
      <inertia ixx="0.001" ixy="0" ixz="0" iyy="0.001" iyz="0" izz="0.001"/>
    </inertial>
  </link>
</robot>
